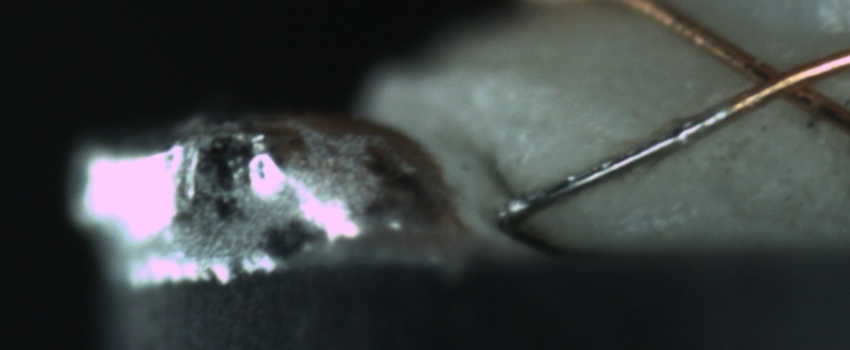CL: (722, 45, 832, 118)
TS: (499, 103, 727, 222)
